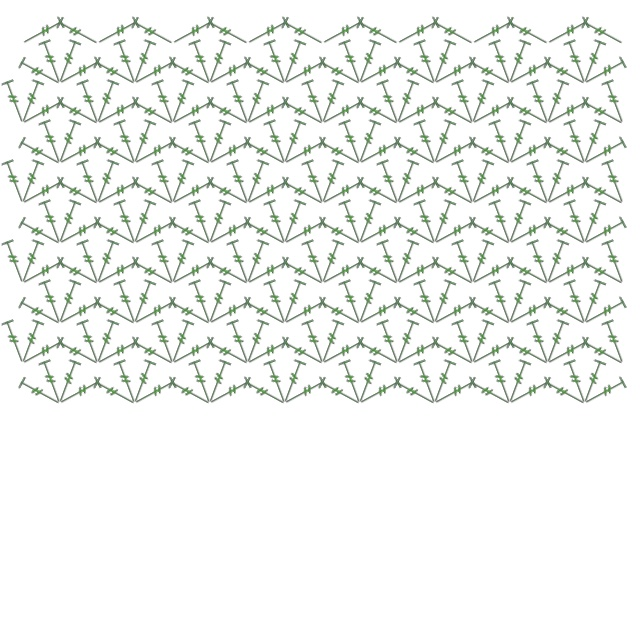fan: (19, 15, 66, 50), (55, 15, 102, 50), (94, 15, 141, 50), (130, 15, 177, 50), (169, 15, 216, 50), (205, 15, 252, 50), (244, 15, 291, 50), (280, 15, 327, 50), (319, 15, 366, 50), (355, 15, 402, 50), (394, 15, 441, 50), (430, 15, 477, 50), (469, 15, 516, 50), (505, 15, 552, 50), (544, 15, 591, 50), (580, 15, 627, 50), (17, 55, 64, 90), (56, 55, 103, 90), (92, 55, 139, 90), (131, 55, 178, 90), (167, 55, 214, 90), (206, 55, 253, 90), (242, 55, 289, 90), (281, 55, 328, 90), (317, 55, 364, 90), (356, 55, 403, 90), (392, 55, 439, 90), (431, 55, 478, 90), (467, 55, 514, 90), (506, 55, 553, 90), (542, 55, 589, 90), (581, 55, 628, 90), (19, 95, 66, 130), (55, 95, 102, 130), (94, 95, 141, 130), (130, 95, 177, 130), (169, 95, 216, 130), (205, 95, 252, 130), (244, 95, 291, 130), (280, 95, 327, 130), (319, 95, 366, 130), (355, 95, 402, 130), (394, 95, 441, 130), (430, 95, 477, 130), (469, 95, 516, 130), (505, 95, 552, 130), (544, 95, 591, 130), (580, 95, 627, 130), (17, 135, 64, 170), (56, 135, 103, 170), (92, 135, 139, 170), (131, 135, 178, 170), (167, 135, 214, 170), (206, 135, 253, 170), (242, 135, 289, 170), (281, 135, 328, 170), (317, 135, 364, 170), (356, 135, 403, 170), (392, 135, 439, 170), (431, 135, 478, 170), (467, 135, 514, 170), (506, 135, 553, 170), (542, 135, 589, 170), (581, 135, 628, 170), (19, 175, 66, 210), (55, 175, 102, 210), (94, 175, 141, 210), (130, 175, 177, 210), (169, 175, 216, 210), (205, 175, 252, 210), (244, 175, 291, 210), (280, 175, 327, 210), (319, 175, 366, 210), (355, 175, 402, 210), (394, 175, 441, 210), (430, 175, 477, 210), (469, 175, 516, 210), (505, 175, 552, 210), (544, 175, 591, 210), (580, 175, 627, 210), (17, 215, 64, 250), (56, 215, 103, 250), (92, 215, 139, 250), (131, 215, 178, 250), (167, 215, 214, 250), (206, 215, 253, 250), (242, 215, 289, 250), (281, 215, 328, 250), (317, 215, 364, 250), (356, 215, 403, 250), (392, 215, 439, 250), (431, 215, 478, 250), (467, 215, 514, 250), (506, 215, 553, 250), (542, 215, 589, 250), (581, 215, 628, 250), (19, 255, 66, 290), (55, 255, 102, 290), (94, 255, 141, 290), (130, 255, 177, 290), (169, 255, 216, 290), (205, 255, 252, 290), (244, 255, 291, 290), (280, 255, 327, 290), (319, 255, 366, 290), (355, 255, 402, 290), (394, 255, 441, 290), (430, 255, 477, 290), (469, 255, 516, 290), (505, 255, 552, 290), (544, 255, 591, 290), (580, 255, 627, 290), (17, 295, 64, 330), (56, 295, 103, 330), (92, 295, 139, 330), (131, 295, 178, 330), (167, 295, 214, 330), (206, 295, 253, 330), (242, 295, 289, 330), (281, 295, 328, 330), (317, 295, 364, 330), (356, 295, 403, 330), (392, 295, 439, 330), (431, 295, 478, 330), (467, 295, 514, 330), (506, 295, 553, 330), (542, 295, 589, 330), (581, 295, 628, 330), (19, 335, 66, 370), (55, 335, 102, 370), (94, 335, 141, 370), (130, 335, 177, 370), (169, 335, 216, 370), (205, 335, 252, 370), (244, 335, 291, 370), (280, 335, 327, 370), (319, 335, 366, 370), (355, 335, 402, 370), (394, 335, 441, 370), (430, 335, 477, 370), (469, 335, 516, 370), (505, 335, 552, 370), (544, 335, 591, 370), (580, 335, 627, 370), (17, 375, 64, 410), (56, 375, 103, 410), (92, 375, 139, 410), (131, 375, 178, 410), (167, 375, 214, 410), (206, 375, 253, 410), (242, 375, 289, 410), (281, 375, 328, 410), (317, 375, 364, 410), (356, 375, 403, 410), (392, 375, 439, 410), (431, 375, 478, 410), (467, 375, 514, 410), (506, 375, 553, 410), (542, 375, 589, 410), (581, 375, 628, 410), (37, 38, 67, 86), (53, 38, 83, 86), (112, 38, 142, 86), (128, 38, 158, 86), (187, 38, 217, 86), (203, 38, 233, 86), (262, 38, 292, 86), (278, 38, 308, 86), (337, 38, 367, 86), (353, 38, 383, 86), (412, 38, 442, 86), (428, 38, 458, 86), (487, 38, 517, 86), (503, 38, 533, 86), (562, 38, 592, 86), (578, 38, 608, 86), (0, 78, 30, 126), (16, 78, 46, 126), (75, 78, 105, 126), (91, 78, 121, 126), (150, 78, 180, 126), (166, 78, 196, 126), (225, 78, 255, 126), (241, 78, 271, 126), (300, 78, 330, 126), (316, 78, 346, 126), (375, 78, 405, 126), (391, 78, 421, 126), (450, 78, 480, 126), (466, 78, 496, 126), (525, 78, 555, 126), (541, 78, 571, 126), (600, 78, 630, 126), (37, 118, 67, 166), (53, 118, 83, 166), (112, 118, 142, 166), (128, 118, 158, 166), (187, 118, 217, 166), (203, 118, 233, 166), (262, 118, 292, 166), (278, 118, 308, 166), (337, 118, 367, 166), (353, 118, 383, 166), (412, 118, 442, 166), (428, 118, 458, 166), (487, 118, 517, 166), (503, 118, 533, 166), (562, 118, 592, 166), (578, 118, 608, 166), (0, 158, 30, 206), (16, 158, 46, 206), (75, 158, 105, 206), (91, 158, 121, 206), (150, 158, 180, 206), (166, 158, 196, 206), (225, 158, 255, 206), (241, 158, 271, 206), (300, 158, 330, 206), (316, 158, 346, 206), (375, 158, 405, 206), (391, 158, 421, 206), (450, 158, 480, 206), (466, 158, 496, 206), (525, 158, 555, 206), (541, 158, 571, 206), (600, 158, 630, 206), (37, 198, 67, 246), (53, 198, 83, 246), (112, 198, 142, 246), (128, 198, 158, 246), (187, 198, 217, 246), (203, 198, 233, 246), (262, 198, 292, 246), (278, 198, 308, 246), (337, 198, 367, 246), (353, 198, 383, 246), (412, 198, 442, 246), (428, 198, 458, 246), (487, 198, 517, 246), (503, 198, 533, 246), (562, 198, 592, 246), (578, 198, 608, 246), (0, 238, 30, 286), (16, 238, 46, 286), (75, 238, 105, 286), (91, 238, 121, 286), (150, 238, 180, 286), (166, 238, 196, 286), (225, 238, 255, 286), (241, 238, 271, 286), (300, 238, 330, 286), (316, 238, 346, 286), (375, 238, 405, 286), (391, 238, 421, 286), (450, 238, 480, 286), (466, 238, 496, 286), (525, 238, 555, 286), (541, 238, 571, 286), (600, 238, 630, 286), (37, 278, 67, 326), (53, 278, 83, 326), (112, 278, 142, 326), (128, 278, 158, 326), (187, 278, 217, 326), (203, 278, 233, 326), (262, 278, 292, 326), (278, 278, 308, 326), (337, 278, 367, 326), (353, 278, 383, 326), (412, 278, 442, 326), (428, 278, 458, 326), (487, 278, 517, 326), (503, 278, 533, 326), (562, 278, 592, 326), (578, 278, 608, 326), (0, 318, 30, 366), (16, 318, 46, 366), (75, 318, 105, 366), (91, 318, 121, 366), (150, 318, 180, 366), (166, 318, 196, 366), (225, 318, 255, 366), (241, 318, 271, 366), (300, 318, 330, 366), (316, 318, 346, 366), (375, 318, 405, 366), (391, 318, 421, 366), (450, 318, 480, 366), (466, 318, 496, 366), (525, 318, 555, 366), (541, 318, 571, 366), (600, 318, 630, 366), (37, 358, 67, 406), (53, 358, 83, 406), (112, 358, 142, 406), (128, 358, 158, 406), (187, 358, 217, 406), (203, 358, 233, 406), (262, 358, 292, 406), (278, 358, 308, 406), (337, 358, 367, 406), (353, 358, 383, 406), (412, 358, 442, 406), (428, 358, 458, 406), (487, 358, 517, 406), (503, 358, 533, 406), (562, 358, 592, 406), (578, 358, 608, 406)
